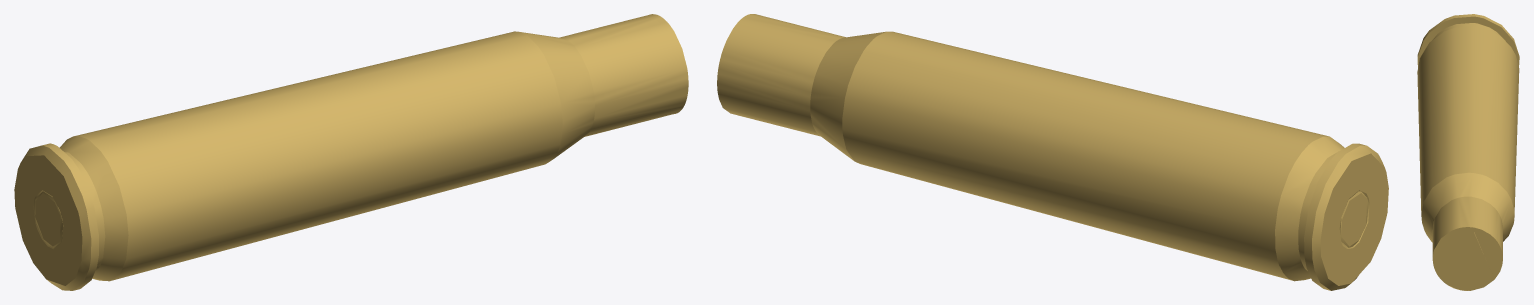
File: SM_ZP_Guns_BAR_Shell_r1.fbx
3 views of the same model, side by side, from view 1: azimuth 30°, elevation 25°; view 2: azimuth 150°, elevation 25°; view 3: azimuth 270°, elevation 25° (orthographic). The views are drawn at different scales.
Visible parts, largest first — view 1: 7mm MAUSER (7X57).001; view 2: 7mm MAUSER (7X57).001; view 3: 7mm MAUSER (7X57).001.
Boxes of the visible parts, x1,y1,x2,y2 form: 7mm MAUSER (7X57).001: (14, 14, 688, 290); 7mm MAUSER (7X57).001: (717, 14, 1388, 290); 7mm MAUSER (7X57).001: (1417, 14, 1519, 290).
Size of the model in its own units: 5.95 by 1.26 by 1.25.
